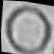no answer: (2, 0, 54, 54)
